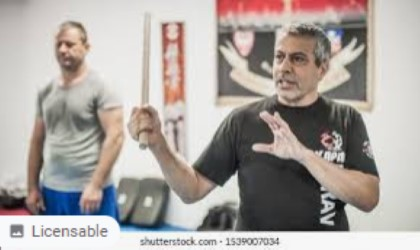baston_e: (137, 28, 156, 105)
baston_v: (132, 126, 155, 153), (137, 9, 155, 25)
